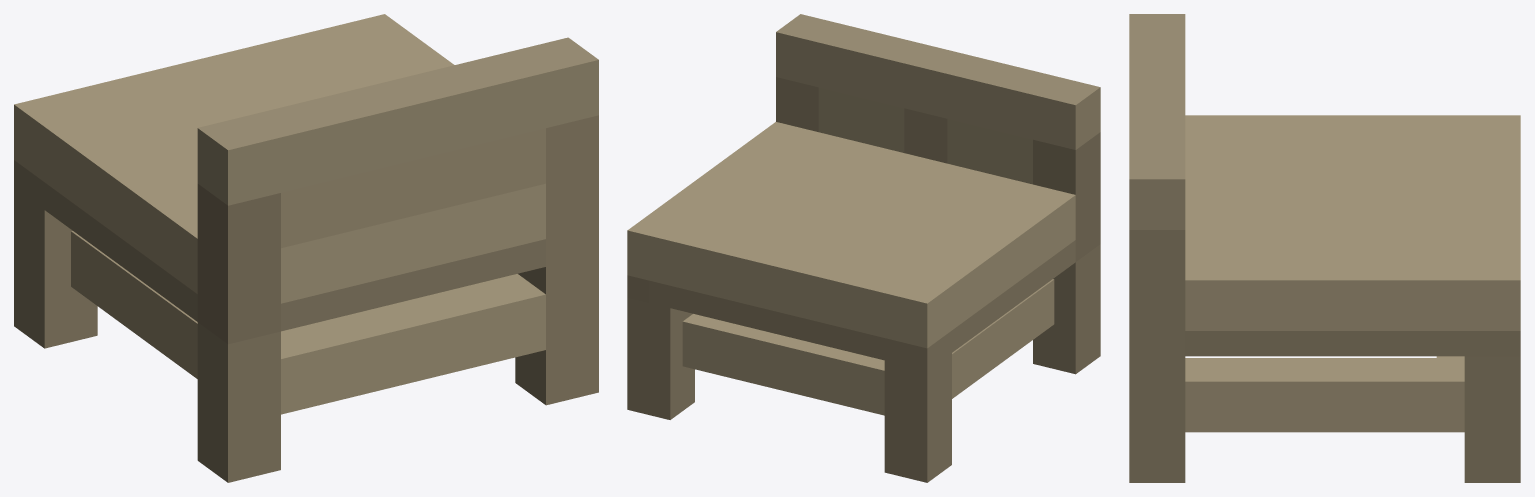
File: banco_tallado_arcos_desgastado_01.glb
3 views of the same model, side by side, from view 1: azimuth 30°, elevation 25°; view 2: azimuth 150°, elevation 25°; view 3: azimuth 270°, elevation 25° (orthographic). The views are drawn at different scales.
Parts seen in each view (by area): view 1: banco_tallado_arcos_desgastado; view 2: banco_tallado_arcos_desgastado; view 3: banco_tallado_arcos_desgastado.
Part boxes in pixels (bbox=[...]): banco_tallado_arcos_desgastado: bbox=[14, 14, 598, 482]; banco_tallado_arcos_desgastado: bbox=[627, 14, 1100, 482]; banco_tallado_arcos_desgastado: bbox=[1129, 14, 1520, 482].
Bounding box in the file's own units: 1 × 0.8571 × 1.
